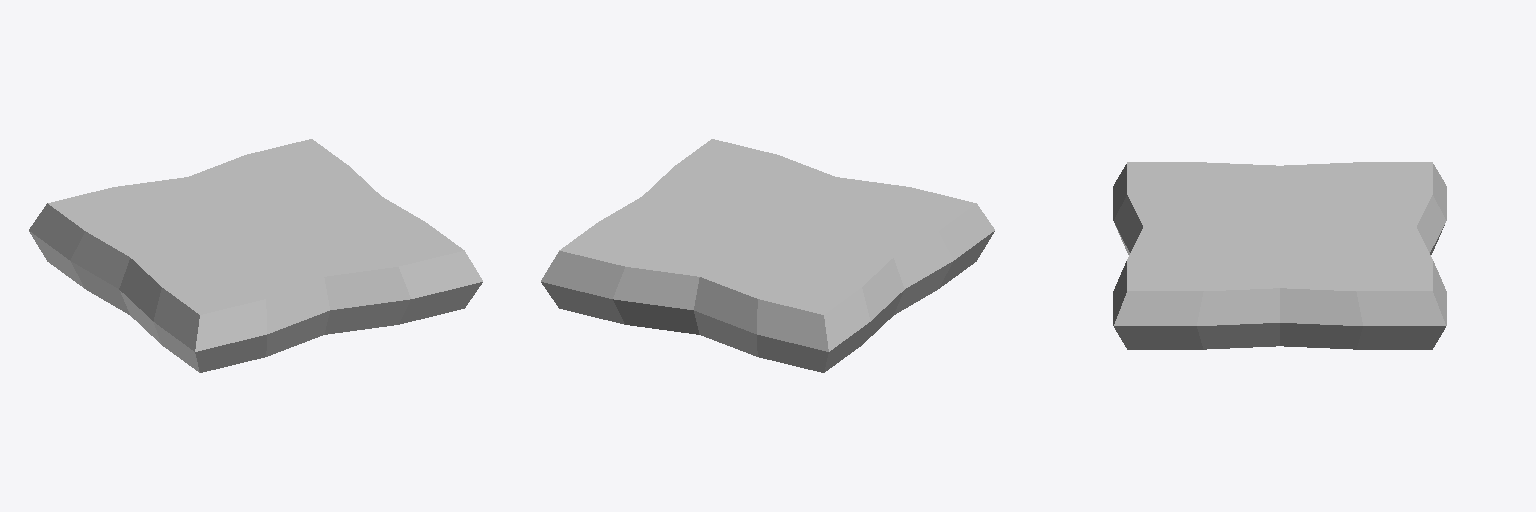
Rendered from BedPillow.obj.
3 views of the same model, side by side, from view 1: azimuth 30°, elevation 25°; view 2: azimuth 150°, elevation 25°; view 3: azimuth 270°, elevation 25° (orthographic).
Parts seen in each view (by area): view 1: BedPillow; view 2: BedPillow; view 3: BedPillow.
Part boxes in pixels (left/top/right/bottom): BedPillow: left=29, top=139, right=482, bottom=372; BedPillow: left=541, top=139, right=994, bottom=372; BedPillow: left=1113, top=162, right=1446, bottom=349.
Size of the model in its own units: 1.09 by 0.21 by 1.09.